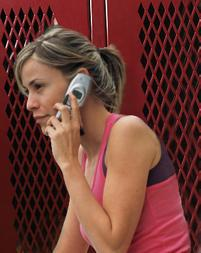person: (15, 29, 192, 253)
